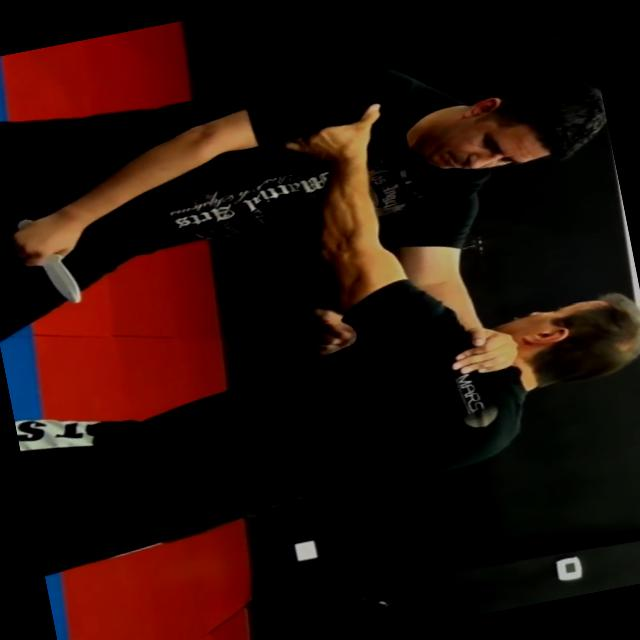knife: (5, 208, 93, 318)
